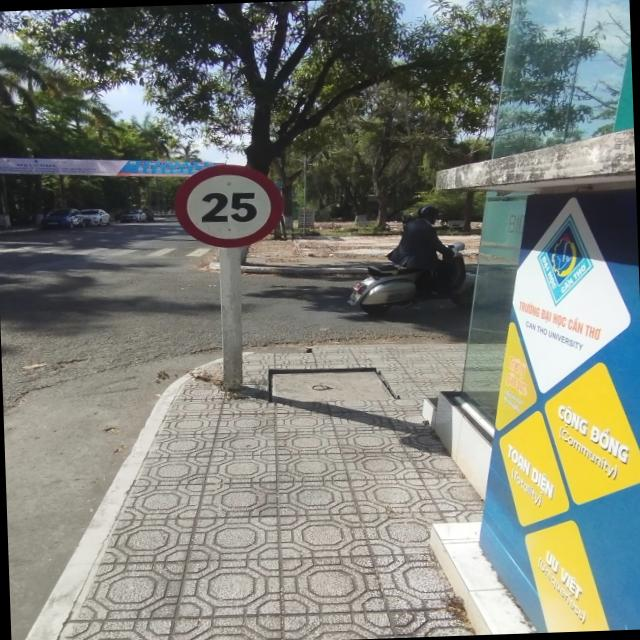Tre_Em: (172, 161, 284, 251)
